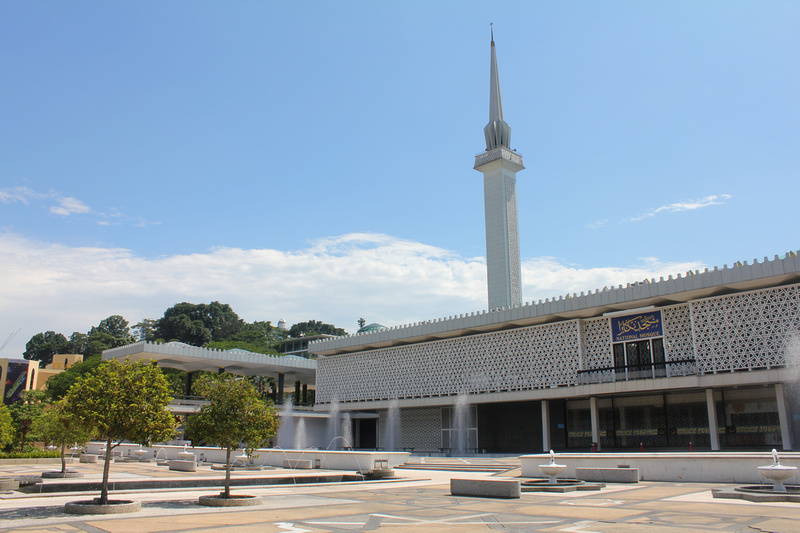Mosque: (305, 33, 795, 450)
